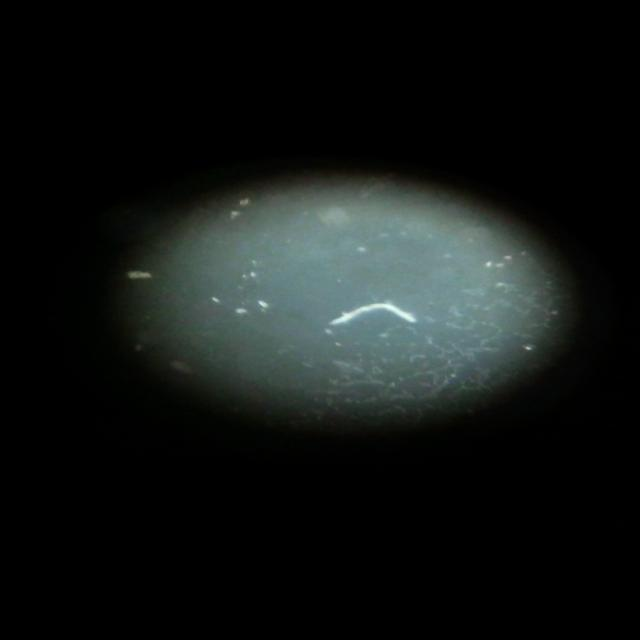psudo-nitzschia: (324, 286, 416, 332)
